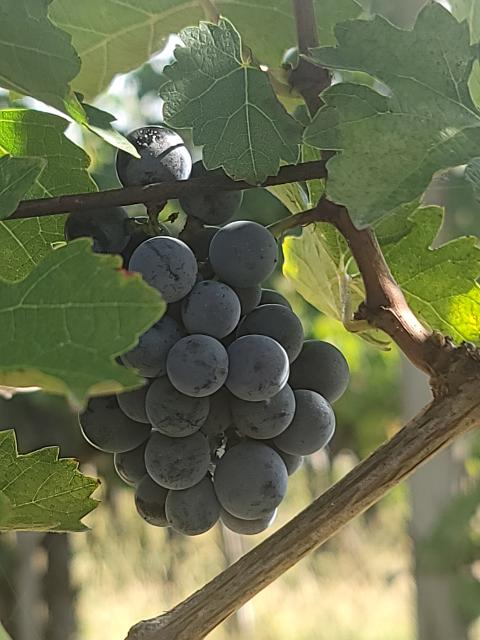grapes: (65, 191, 350, 535)
